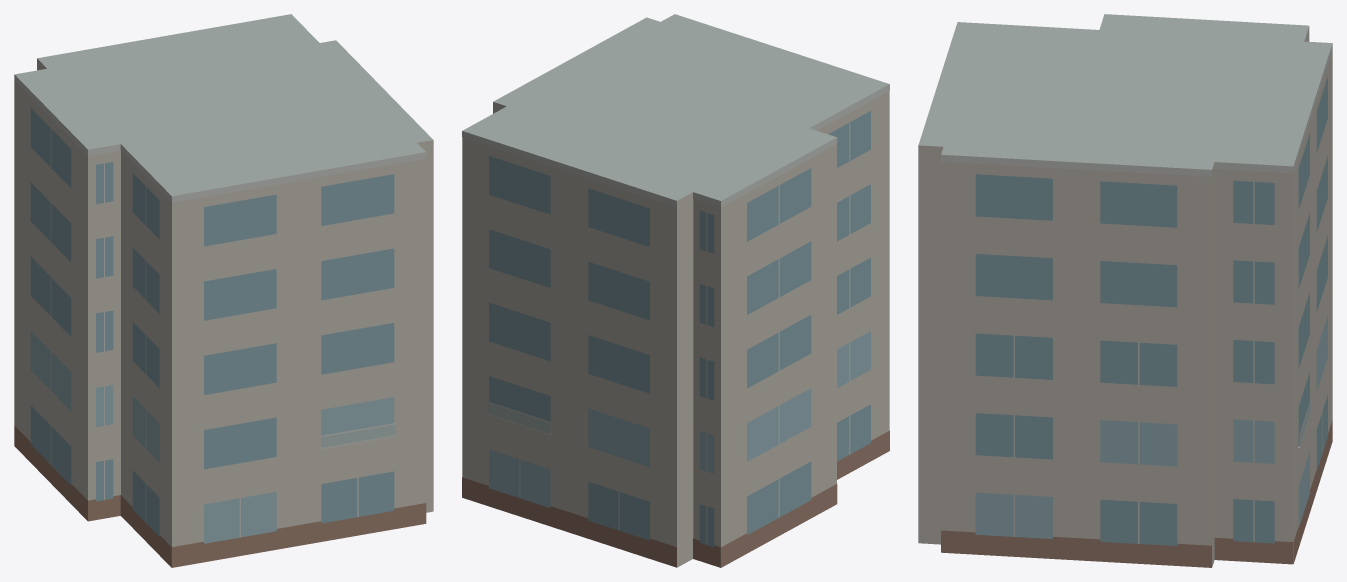
The model's file is survey-upis-32605392.glb.
3 renders of one model, left to right at view 1: azimuth 30°, elevation 25°; view 2: azimuth 150°, elevation 25°; view 3: azimuth 270°, elevation 25°, orthographic. The views are drawn at different scales.
Parts seen in each view (by area): view 1: survey-upis-32605392.tmp; view 2: survey-upis-32605392.tmp; view 3: survey-upis-32605392.tmp.
Boxes of the visible parts, x1=… form: survey-upis-32605392.tmp: x1=14, y1=14, x2=433, y2=567; survey-upis-32605392.tmp: x1=462, y1=14, x2=889, y2=567; survey-upis-32605392.tmp: x1=918, y1=14, x2=1332, y2=567.
Bounding box in the file's own units: 11.65 × 13.85 × 13.08.
